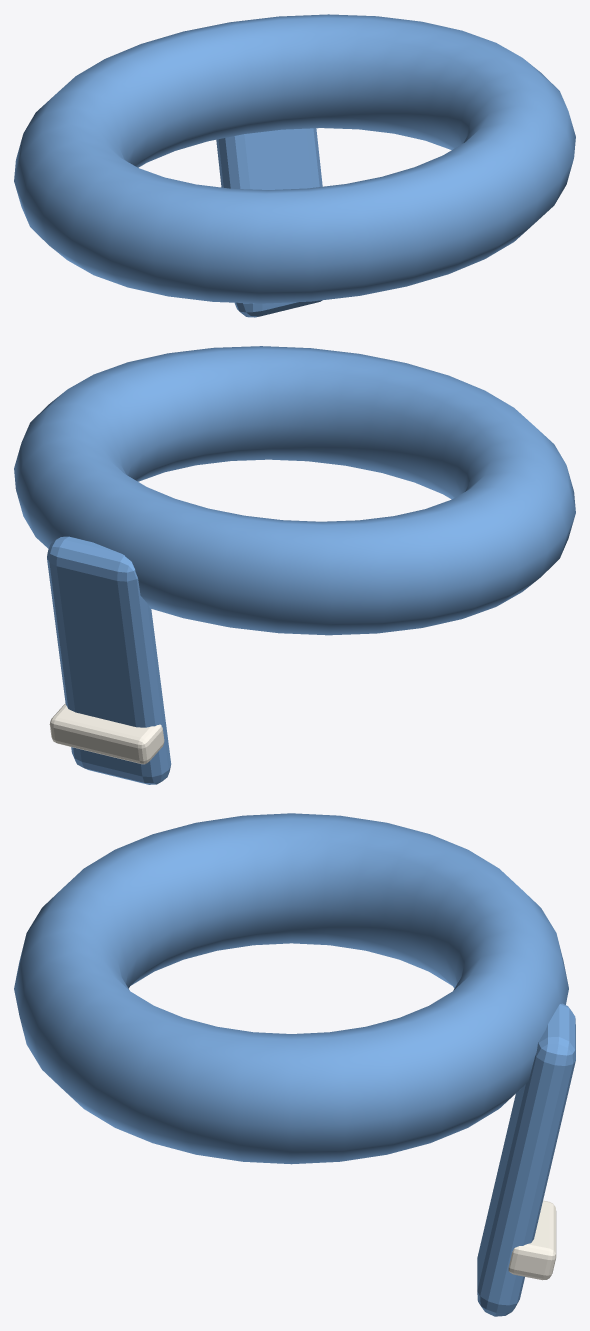
The model's file is scarf.glb.
3 renders of one model, top to bottom at view 1: azimuth 30°, elevation 25°; view 2: azimuth 150°, elevation 25°; view 3: azimuth 270°, elevation 25°, orthographic. The views are drawn at different scales.
Visible parts, largest first — view 1: scarf; view 2: scarf; view 3: scarf.
Part boxes in pixels (bbox=[...]): scarf: bbox=[14, 14, 575, 317]; scarf: bbox=[14, 346, 575, 784]; scarf: bbox=[14, 813, 575, 1316].
Size of the model in its own units: 0.75 by 0.4111 by 0.6454.
